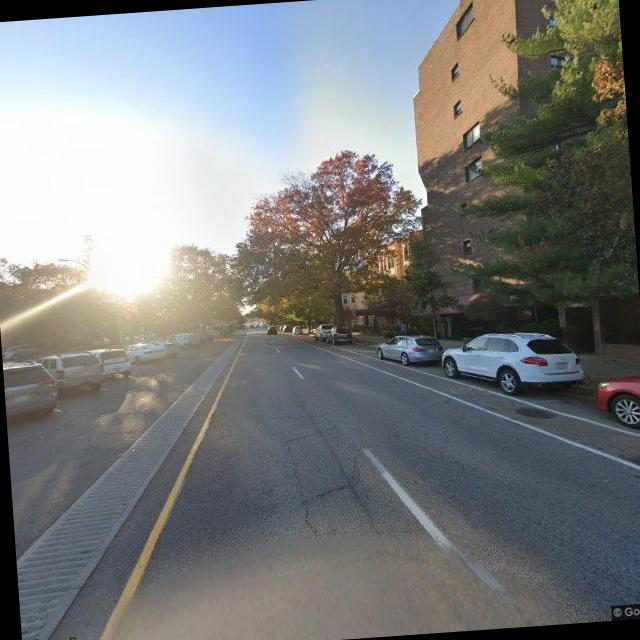pothole: (279, 434, 318, 540)
